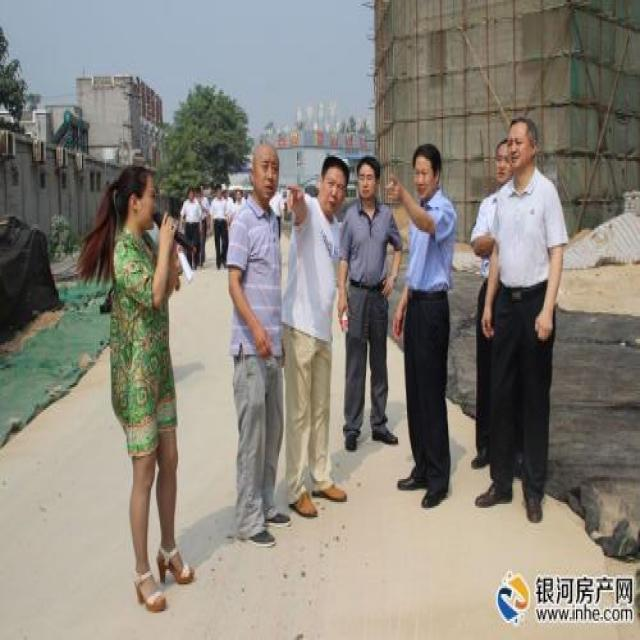head: (503, 115, 541, 180), (123, 161, 156, 234), (317, 152, 352, 218), (251, 136, 281, 201), (411, 140, 441, 205), (352, 151, 383, 205), (491, 138, 516, 193)
